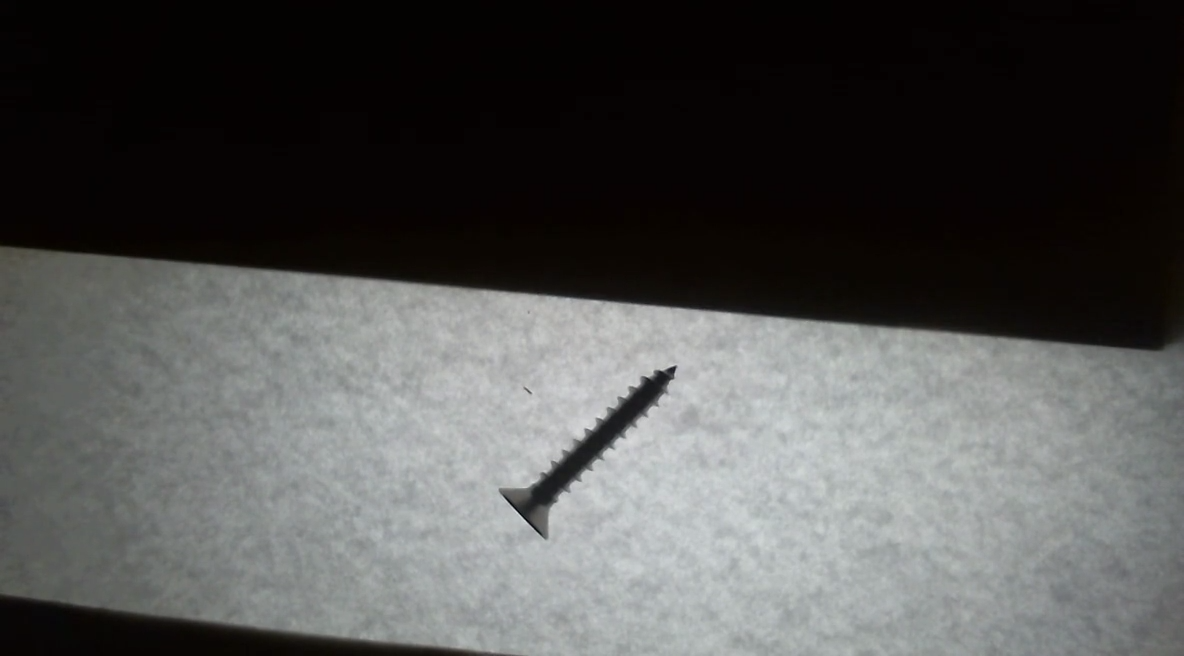S001: (469, 341, 696, 550)
